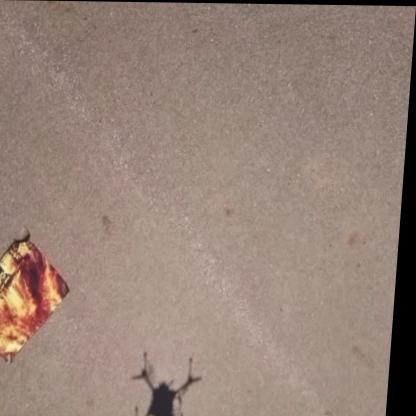fire-poster: (0, 229, 79, 367)
